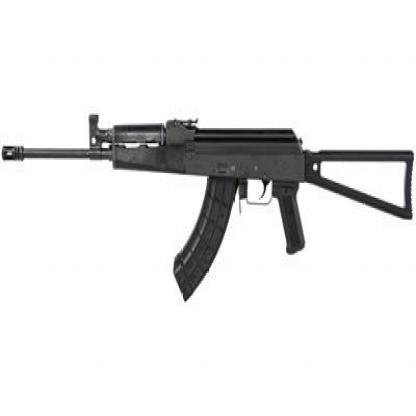rifle: (1, 115, 413, 278)
